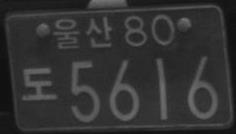0: (151, 13, 175, 46)
1: (145, 57, 178, 120)
5: (70, 60, 101, 123)
6: (186, 55, 218, 120), (108, 59, 140, 122)
8: (123, 14, 148, 47)
도: (21, 65, 57, 101)
울산_O: (53, 15, 112, 49)
